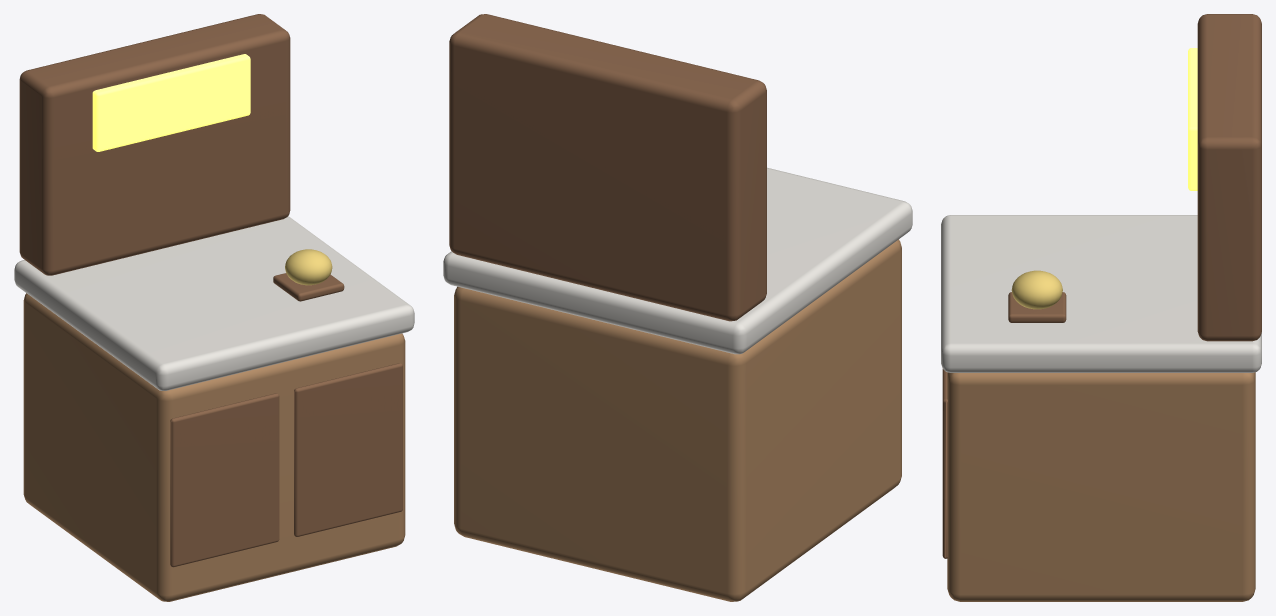
Rendered from delivery.glb.
The picture shows the model from 3 angles, left to right: view 1: azimuth 30°, elevation 25°; view 2: azimuth 150°, elevation 25°; view 3: azimuth 270°, elevation 25°; orthographic projection. The views are drawn at different scales.
Parts seen in each view (by area): view 1: cabinet, hatch, top, door-0.24, door0.24, sign, bell, bell_base; view 2: cabinet, hatch, top; view 3: cabinet, top, hatch, bell, sign, bell_base, door0.24.
Part boxes in pixels (left/top/right/bottom): cabinet: left=23, top=293, right=405, bottom=601; hatch: left=19, top=14, right=290, bottom=275; top: left=14, top=216, right=414, bottom=390; door-0.24: left=170, top=393, right=279, bottom=567; door0.24: left=294, top=363, right=402, bottom=536; sign: left=92, top=54, right=250, bottom=151; bell: left=285, top=249, right=332, bottom=285; bell_base: left=273, top=273, right=344, bottom=301; cabinet: left=454, top=239, right=901, bottom=601; hatch: left=449, top=14, right=766, bottom=321; top: left=443, top=167, right=912, bottom=354; cabinet: left=947, top=372, right=1255, bottom=601; top: left=941, top=215, right=1261, bottom=372; hatch: left=1197, top=14, right=1261, bottom=341; bell: left=1011, top=270, right=1062, bottom=309; sign: left=1188, top=48, right=1197, bottom=190; bell_base: left=1008, top=292, right=1066, bottom=322; door0.24: left=942, top=369, right=947, bottom=558.
Bounding box in the file's own units: 1 × 1.6 × 1.
